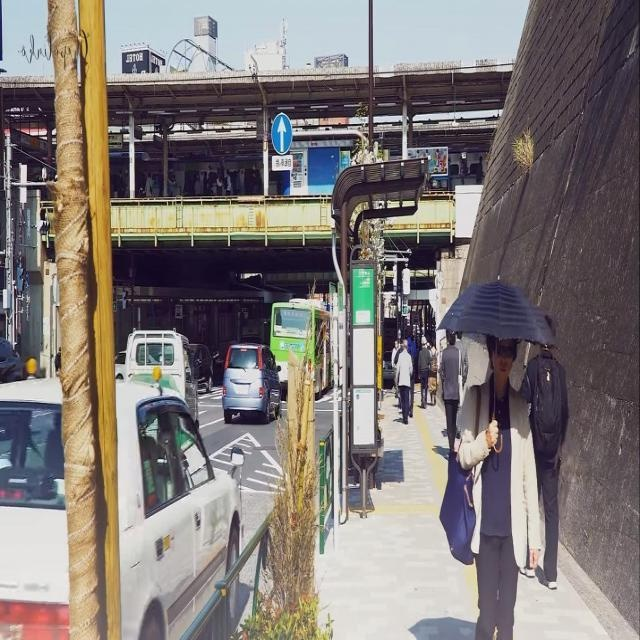car: (0, 373, 254, 640), (204, 330, 285, 427)
